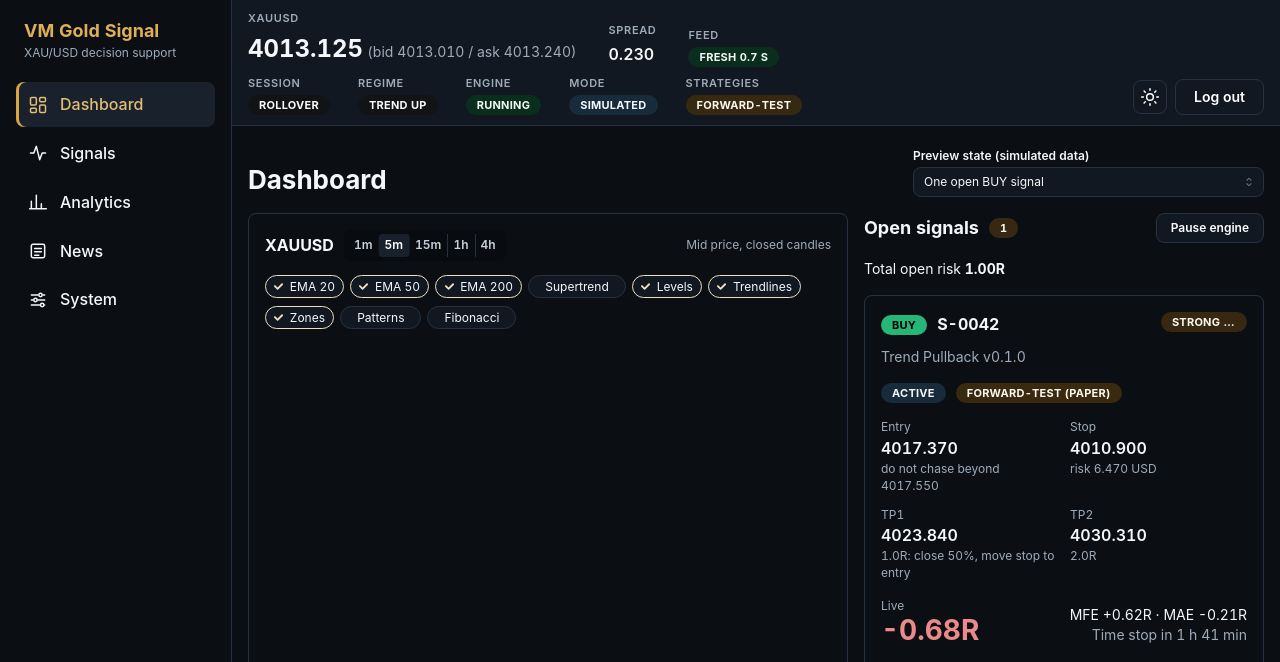
Test: pause and resume › asks before pausing, then shows the amber card and resumes with one click
This screenshot has width=1280, height=662.
Click the button with test id "pause-button".
click(1210, 228)  # box [1156,213,1264,243]
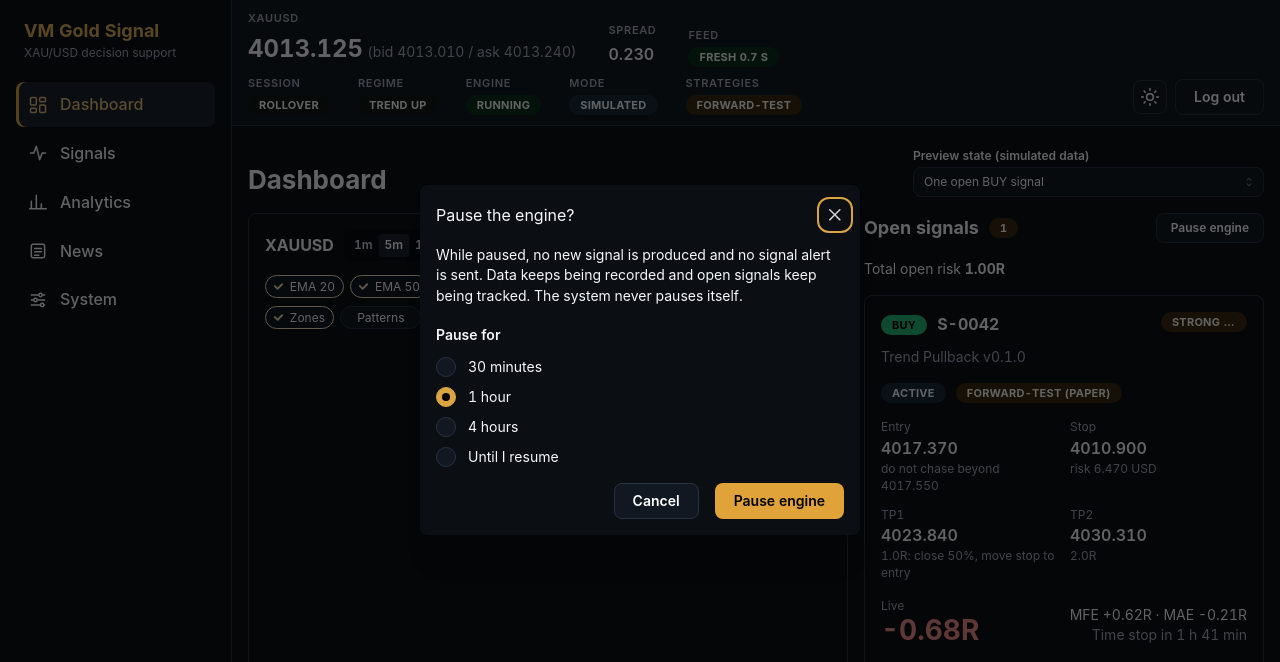
Check: the element with test id "status-engine" reads "RUNNING", box [477,98,530,112]
Check: the dialog "Pause the engine?" shows "never pauses itself", box [436,246,831,304]
Click the button with test id "pause-confirm".
click(779, 501)  # box [715,483,844,519]
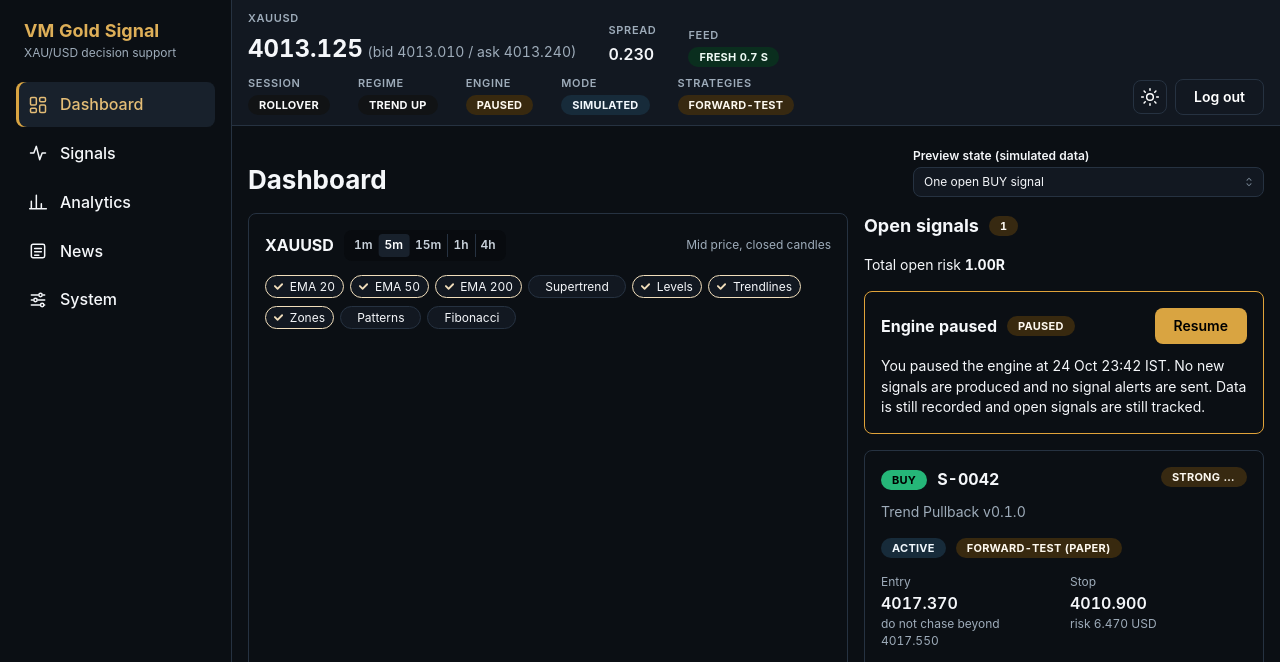
Check: the element with test id "paused-card" shows "Engine paused", box [881,316,997,336]
Check: the element with test id "status-engine" reads "PAUSED", box [477,98,522,112]
Click the button with test id "resume-button".
click(1201, 326)  # box [1155,308,1247,344]
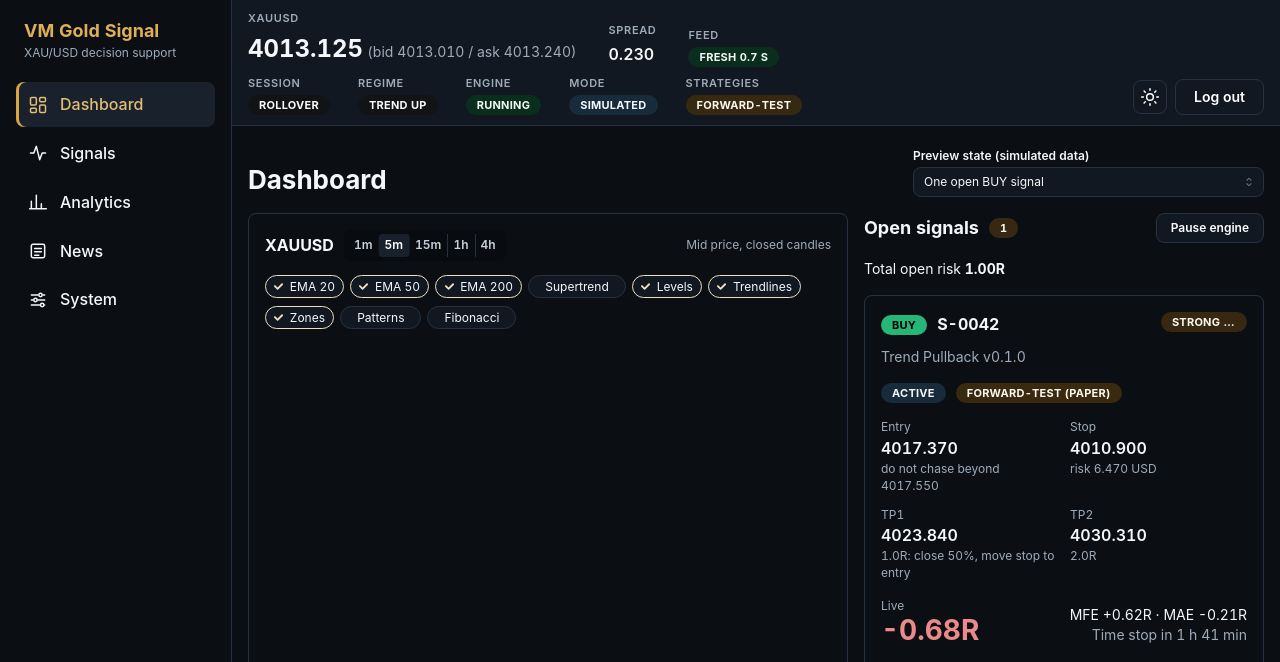
Check: the element with test id "paused-card" is gone
Check: the element with test id "status-engine" reads "RUNNING", box [477,98,530,112]
